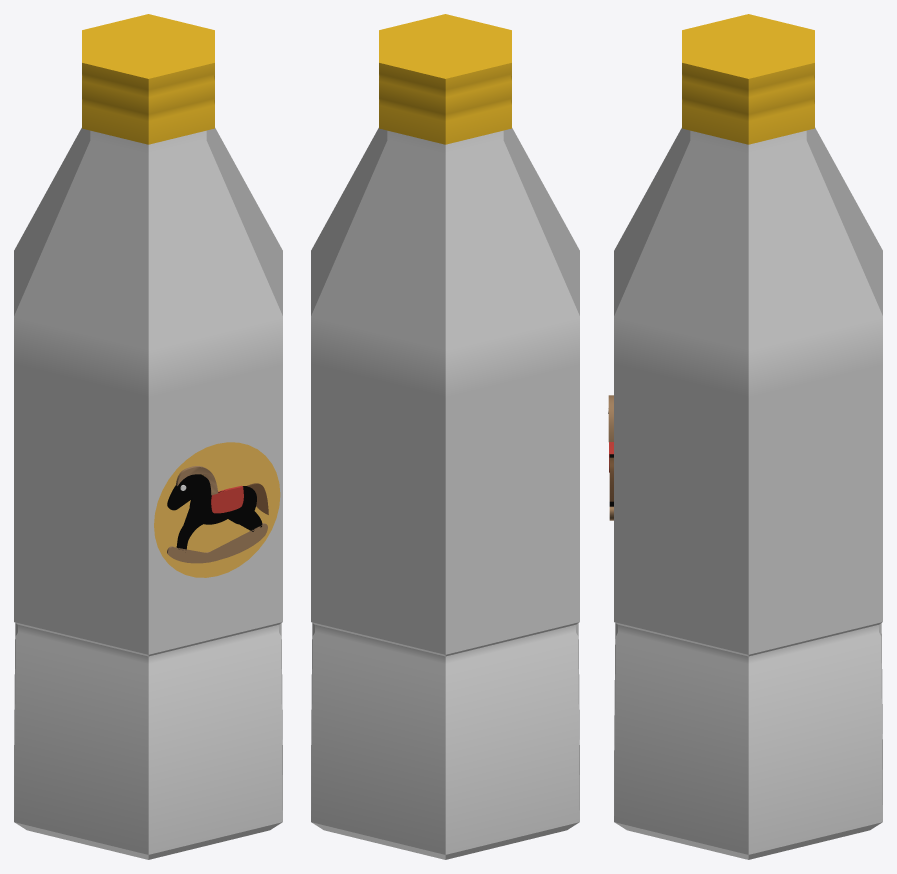
The model's file is black horse.fbx.
3 renders of one model, left to right at view 1: azimuth 30°, elevation 25°; view 2: azimuth 150°, elevation 25°; view 3: azimuth 270°, elevation 25°, orthographic.
Visible parts, largest first — view 1: black_horse; view 2: black_horse; view 3: black_horse.
Part boxes in pixels (x1,y1,x2,y2): black_horse: [14, 14, 282, 859]; black_horse: [311, 14, 579, 859]; black_horse: [608, 14, 882, 859].
Bounding box in the file's own units: 260 × 697 × 230.
